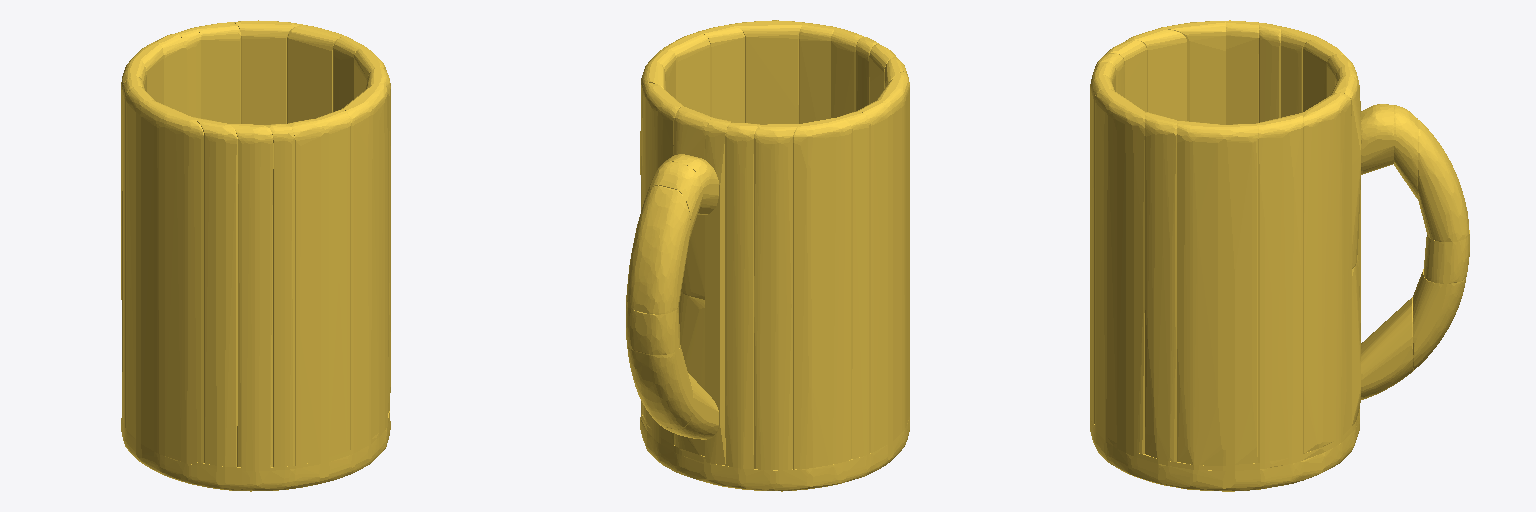
robot.urdf — 18.urdf:
<?xml version="1.0" ?>
<robot name="18.urdf">
	<link name="baseLink">
		<inertial>
			<origin rpy="0 0 0" xyz="0 0 0"/>
				<mass value="0.1"/>
				<inertia ixx="6e-5" ixy="0" ixz="0" iyy="6e-5" iyz="0" izz="6e-5"/>
		</inertial>
		<visual>
			<origin rpy="0 0 0" xyz="0 0 0"/>
			<geometry>
				<mesh filename="22_decom_wt.obj" scale="1.04 1.04 1.19"/>
			</geometry>
			<material name="yellow">
				<color rgba="0.98 0.84 0.35 1"/>
			</material>
		</visual>
		<collision>
			<origin rpy="0 0 0" xyz="0 0 0"/>
			<geometry>
				<mesh filename="22_decom_wt.obj" scale="1.04 1.04 1.19"/>
			</geometry>
		</collision>
	</link>
</robot>

--- Render facts (derived) ---
3 views of the same robot in one strip: view 1: azimuth 30°, elevation 25°; view 2: azimuth 150°, elevation 25°; view 3: azimuth 270°, elevation 25° (orthographic).
Robot: 18.urdf — 1 links, 0 joints (none); root link baseLink; default pose: all joints at 0.
Visible links, largest first — view 1: baseLink; view 2: baseLink; view 3: baseLink.
Link boxes in pixels (left/top/right/bottom): baseLink: left=121, top=20, right=390, bottom=491; baseLink: left=626, top=20, right=909, bottom=491; baseLink: left=1090, top=20, right=1469, bottom=491.
Bounding box of the posed robot: 0.1102 × 0.1557 × 0.1646 m (x, y, z).
1 mesh visuals loaded from 1 distinct referenced files (1 OBJ).